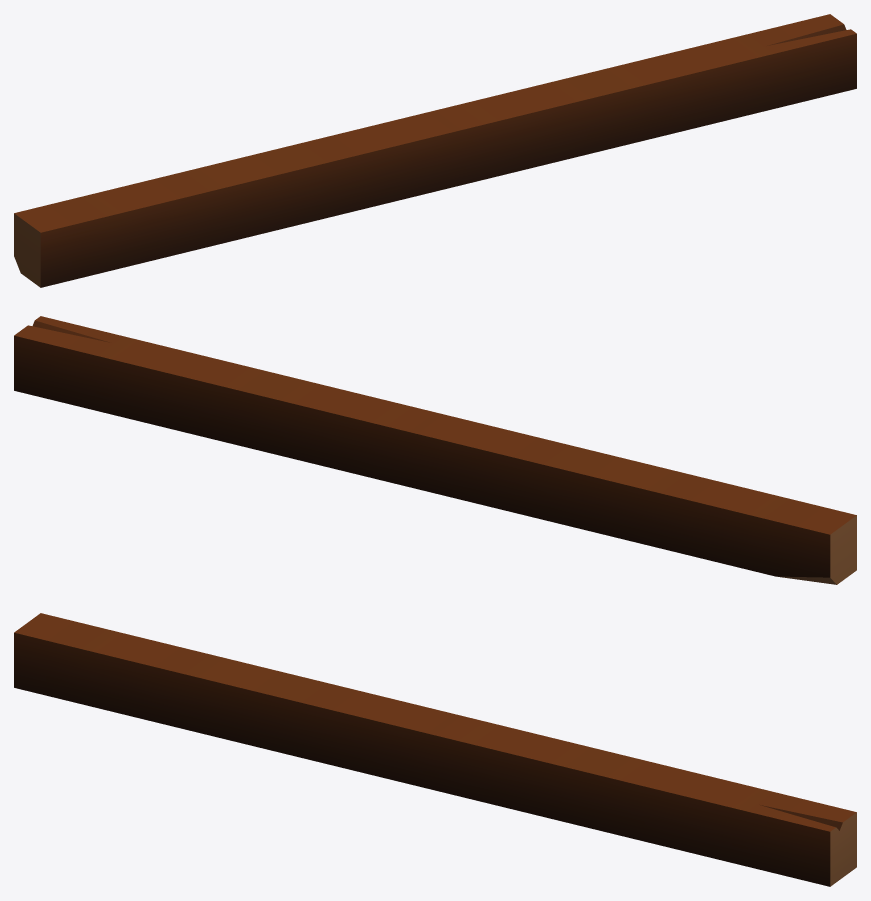
File: Wooden_Beam_1B.fbx
The picture shows the model from 3 angles, top to bottom: view 1: azimuth 30°, elevation 25°; view 2: azimuth 150°, elevation 25°; view 3: azimuth 330°, elevation 25°; orthographic projection.
Parts seen in each view (by area): view 1: Wooden_Beam_1B; view 2: Wooden_Beam_1B; view 3: Wooden_Beam_1B.
Part boxes in pixels (bbox=[...]): Wooden_Beam_1B: bbox=[14, 14, 856, 287]; Wooden_Beam_1B: bbox=[14, 316, 856, 584]; Wooden_Beam_1B: bbox=[14, 613, 856, 886].
Bounding box in the file's own units: 387 × 25 × 22.
